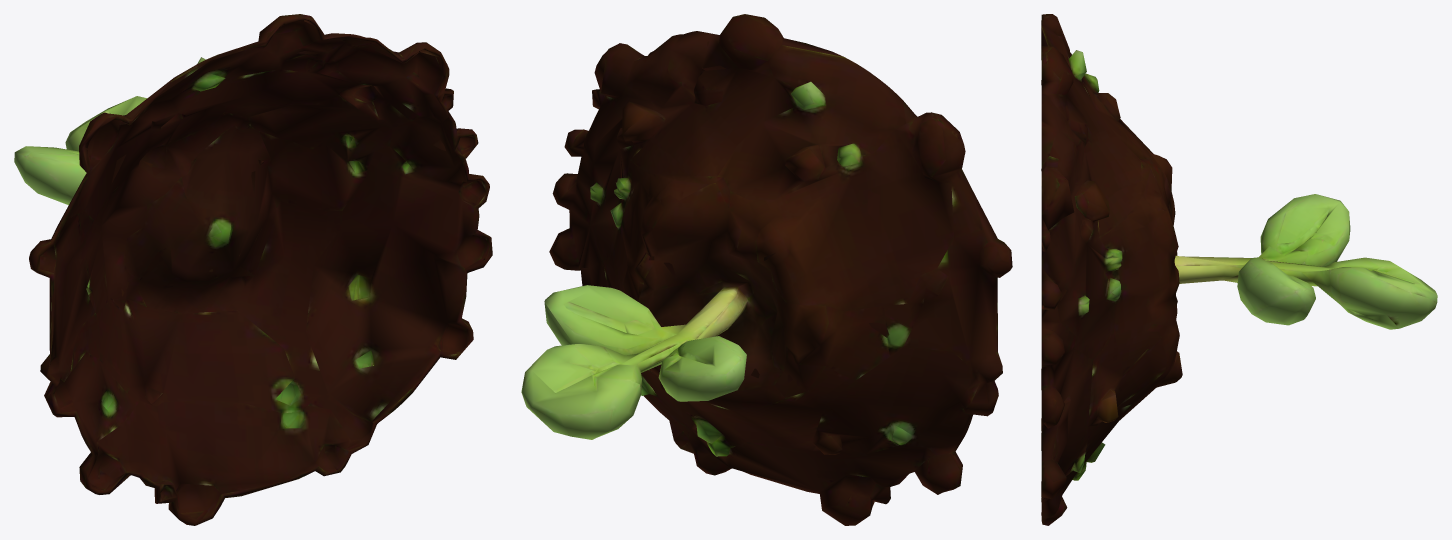
3 renders of one model, left to right at view 1: azimuth 30°, elevation 25°; view 2: azimuth 150°, elevation 25°; view 3: azimuth 270°, elevation 25°, orthographic. The views are drawn at different scales.
Parts seen in each view (by area): view 1: material; view 2: material; view 3: material.
Boxes of the visible parts, <box> form: material: <box>14,14,492,525</box>; material: <box>521,14,1012,525</box>; material: <box>1041,14,1437,525</box>.
Size of the model in its own units: 0.9957 by 1 by 0.7643.
Materials: 1 (1 with a texture image).
